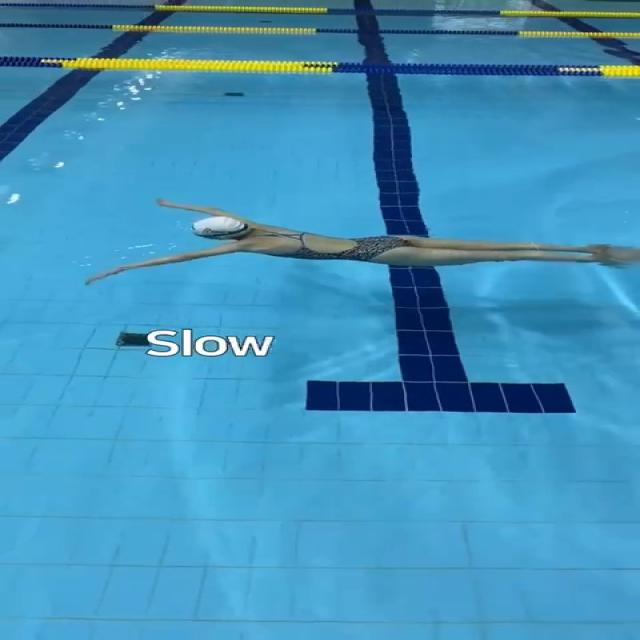Swimming: (83, 196, 637, 286)
